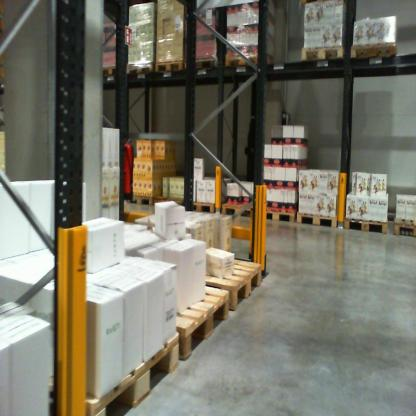pallet: (35, 318, 192, 416), (160, 247, 267, 317), (164, 267, 236, 367), (345, 37, 400, 72), (295, 43, 345, 65), (221, 52, 270, 72), (341, 214, 386, 234), (296, 207, 337, 227), (257, 200, 295, 221), (185, 55, 223, 74), (221, 197, 255, 218), (390, 214, 416, 240), (187, 193, 214, 215), (156, 57, 188, 73), (131, 190, 156, 209), (127, 61, 155, 74), (104, 61, 129, 75)
